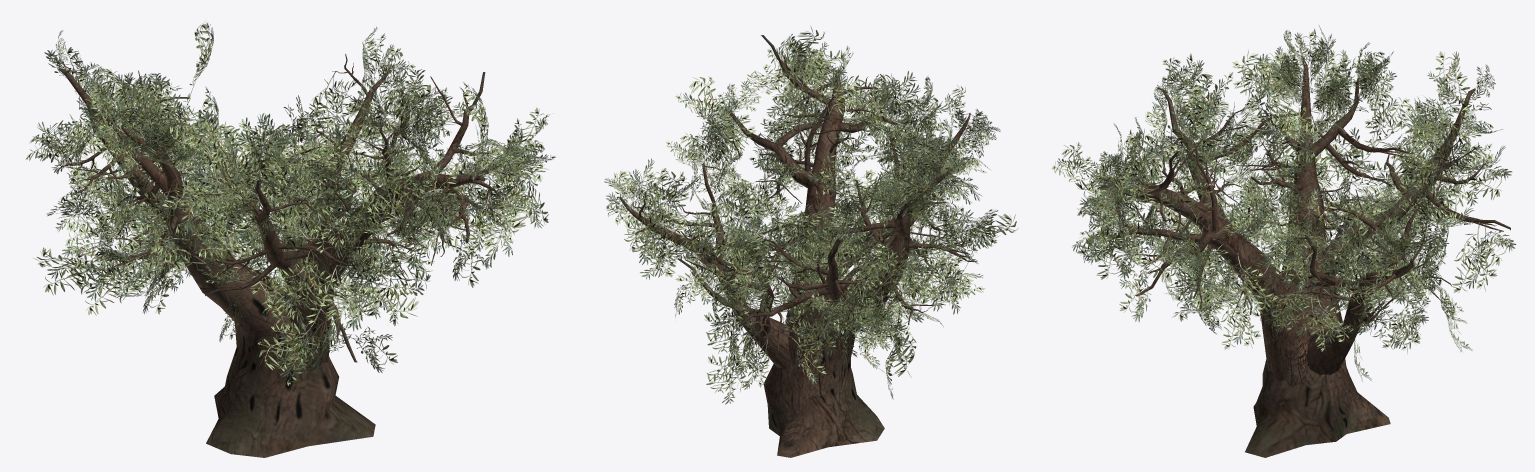
File: olivo_viejo.glb
3 renders of one model, left to right at view 1: azimuth 30°, elevation 25°; view 2: azimuth 150°, elevation 25°; view 3: azimuth 270°, elevation 25°, orthographic. The views are drawn at different scales.
Parts seen in each view (by area): view 1: Object_2, Object_4, Object_3; view 2: Object_2, Object_4, Object_3; view 3: Object_2, Object_4, Object_3.
Boxes of the visible parts, x1,y1,x2,y2 form: Object_2: (26,22,555,385); Object_4: (59,68,515,457); Object_3: (56,54,498,362); Object_2: (604,26,1018,404); Object_4: (619,70,970,457); Object_3: (632,35,977,351); Object_2: (1051,25,1516,381); Object_4: (1097,55,1485,457); Object_3: (1085,109,1510,334).
Bounding box in the file's own units: 5.26 × 4.61 × 5.65.
Materials: 2 (2 with a texture image).
